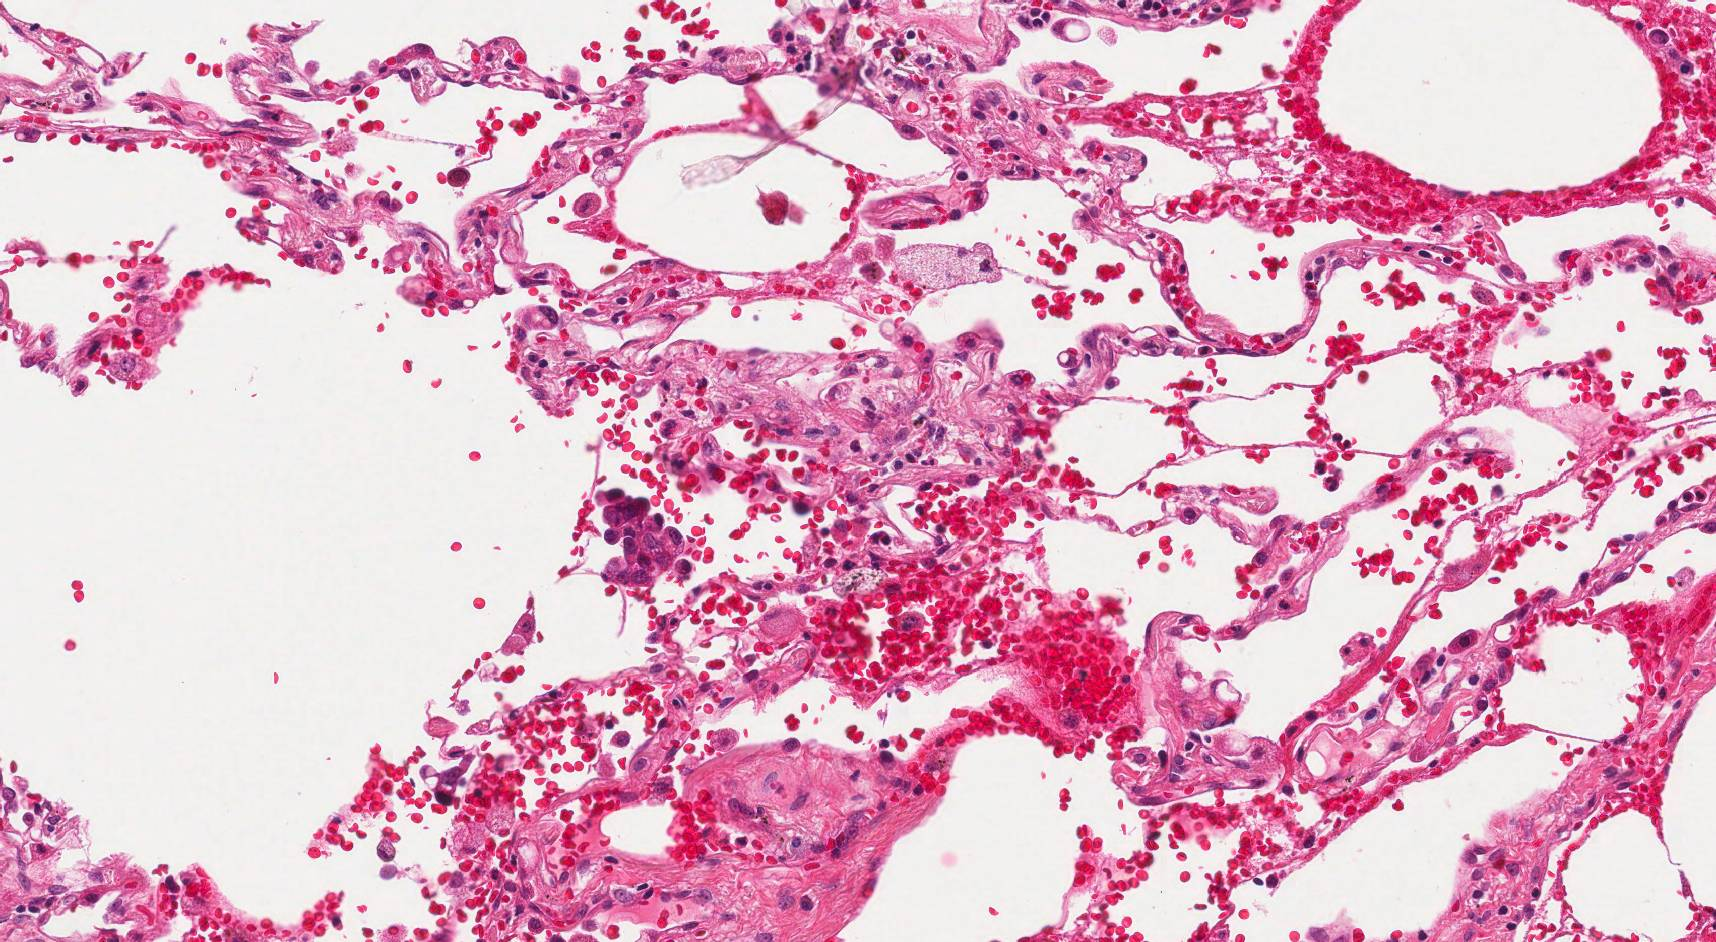stas: (596, 488, 697, 587)
